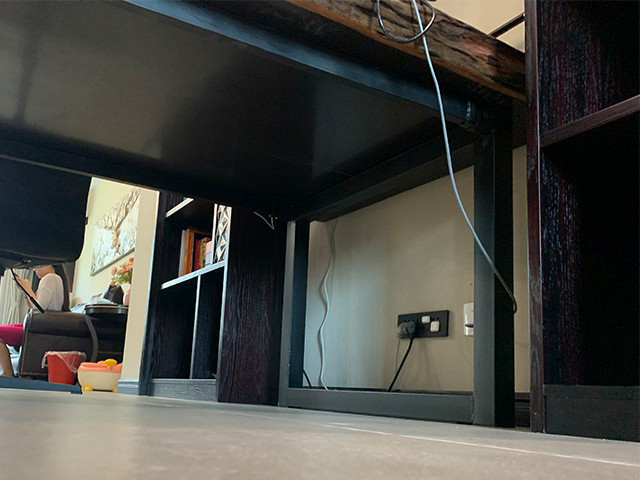cabinet: (139, 189, 288, 406)
sofa: (9, 285, 124, 384)
table: (1, 1, 524, 429)
trashcan: (45, 350, 85, 386)
wire: (374, 1, 476, 236), (313, 251, 456, 390)
